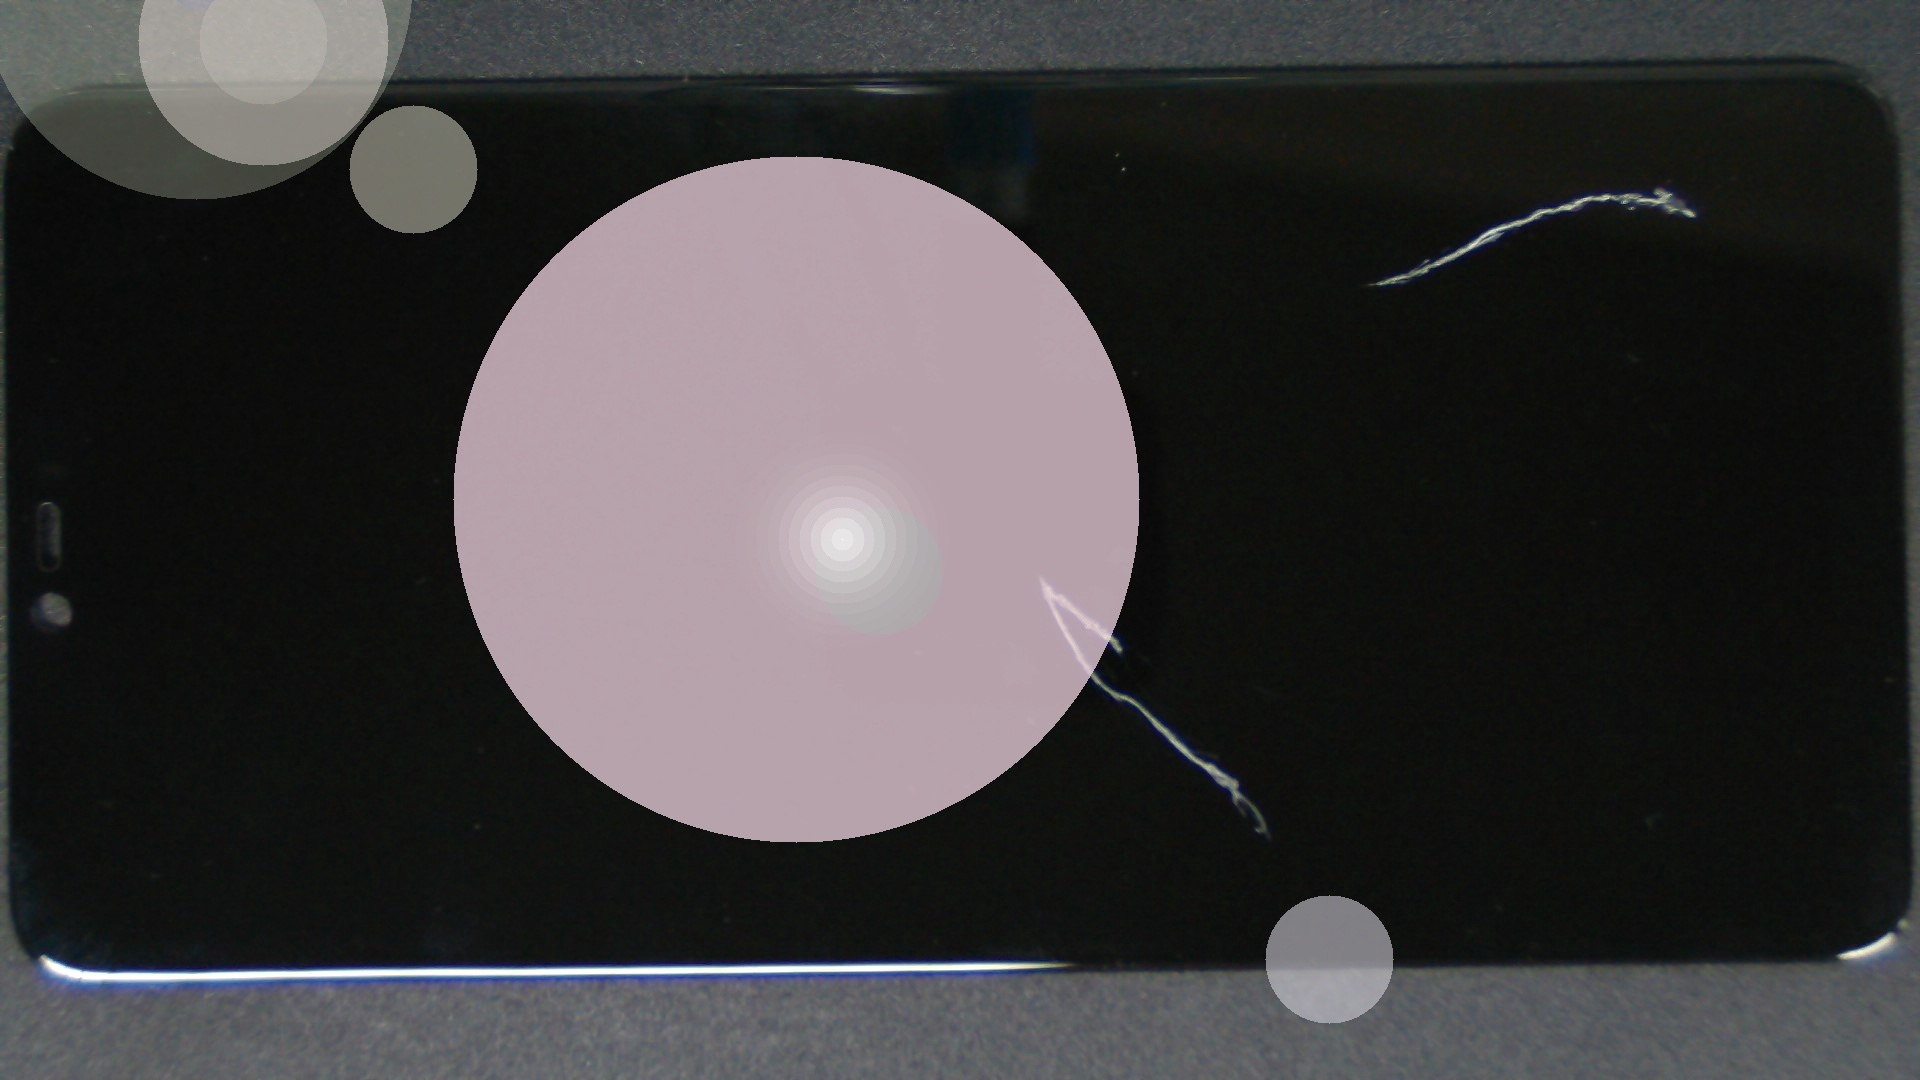oil: (521, 287, 1561, 862), (832, 92, 1920, 280)
